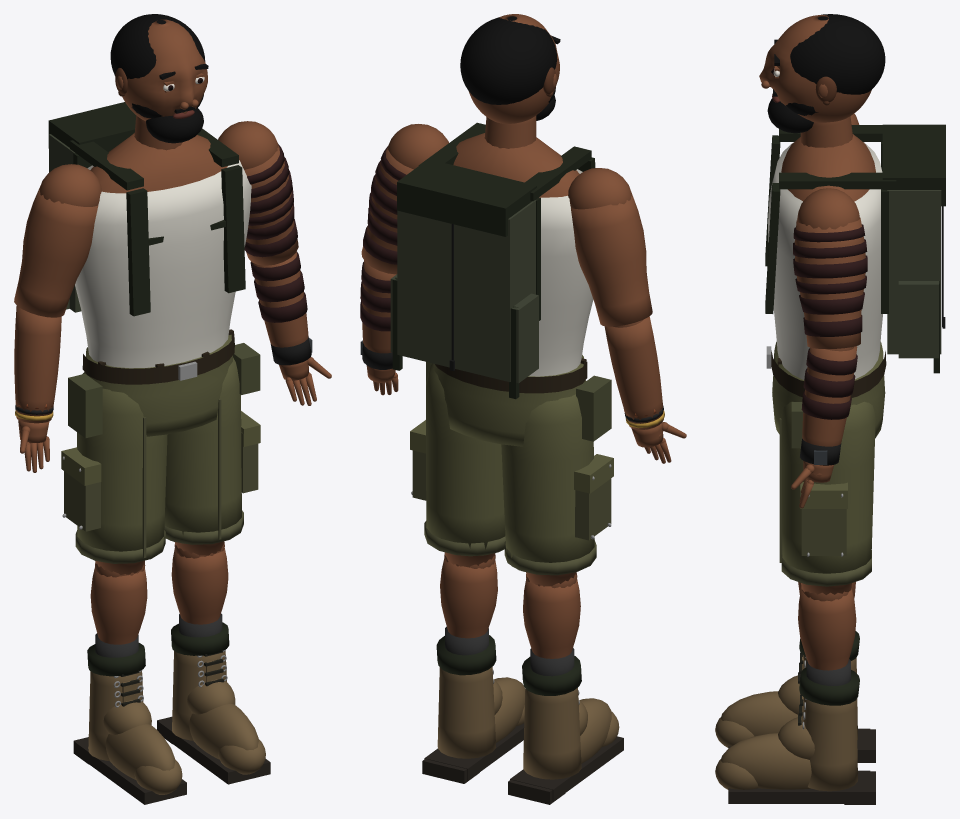
Rendered from male_belizean_engine.glb.
3 renders of one model, left to right at view 1: azimuth 30°, elevation 25°; view 2: azimuth 150°, elevation 25°; view 3: azimuth 270°, elevation 25°, orthographic. The views are drawn at different scales.
Parts seen in each view (by area): view 1: tank_top, shorts_leg_R, shorts_leg_L, upper_arm_R, shorts_waist, head, torso_skin, forearm_R, shin_R, shin_L, backpack_flap, strap_front_R (+41 smaller); view 2: backpack_body, shorts_leg_R, shorts_leg_L, upper_arm_R, tank_top, backpack_flap, hair_crop, shorts_waist, boot_shaft_L, boot_shaft_R, forearm_R, shin_R (+30 smaller); view 3: shorts_leg_L, tank_top, backpack_body, hair_crop, boot_shaft_L, backpack_flap, head, shin_L, upper_arm_L, boot_foot_L, torso_skin, backpack_pocket_L (+35 smaller).
Boxes of the visible parts, box(x1,y1,x2,y2) form: tank_top: box(75, 160, 251, 368); shorts_leg_R: box(77, 372, 167, 551); shorts_leg_L: box(164, 357, 241, 543); upper_arm_R: box(14, 185, 98, 317); shorts_waist: box(84, 334, 232, 436); head: box(122, 19, 207, 121); torso_skin: box(90, 133, 227, 193); forearm_R: box(14, 306, 61, 423); shin_R: box(90, 568, 147, 644); shin_L: box(171, 548, 228, 624); backpack_flap: box(48, 102, 136, 152); strap_front_R: box(126, 188, 150, 316); backpack_body: box(397, 200, 536, 381); shorts_leg_R: box(501, 380, 594, 571); shorts_leg_L: box(426, 363, 505, 556); upper_arm_R: box(571, 193, 652, 326); tank_top: box(529, 169, 593, 376); backpack_flap: box(397, 159, 536, 236); hair_crop: box(460, 16, 557, 104); shorts_waist: box(433, 355, 585, 446); boot_shaft_L: box(437, 666, 495, 758); boot_shaft_R: box(523, 687, 581, 779); forearm_R: box(604, 316, 663, 429); shin_R: box(523, 579, 580, 658); shorts_leg_L: box(781, 401, 875, 573); tank_top: box(768, 142, 882, 379); backpack_body: box(887, 190, 941, 354); hair_crop: box(790, 14, 885, 94); boot_shaft_L: box(803, 697, 857, 791); backpack_flap: box(882, 124, 945, 206); head: box(759, 15, 871, 122); shin_L: box(798, 588, 856, 670); upper_arm_L: box(794, 217, 865, 348); boot_foot_L: box(720, 733, 811, 789); torso_skin: box(781, 134, 875, 201); backpack_pocket_L: box(898, 281, 938, 358).
Size of the model in its own units: 0.82 by 1.85 by 0.512.
